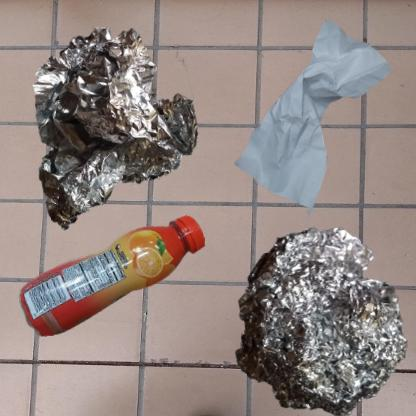aluminio: (10, 10, 223, 243), (213, 213, 416, 416)
botella: (10, 213, 233, 350)
papel: (213, 10, 416, 233)
